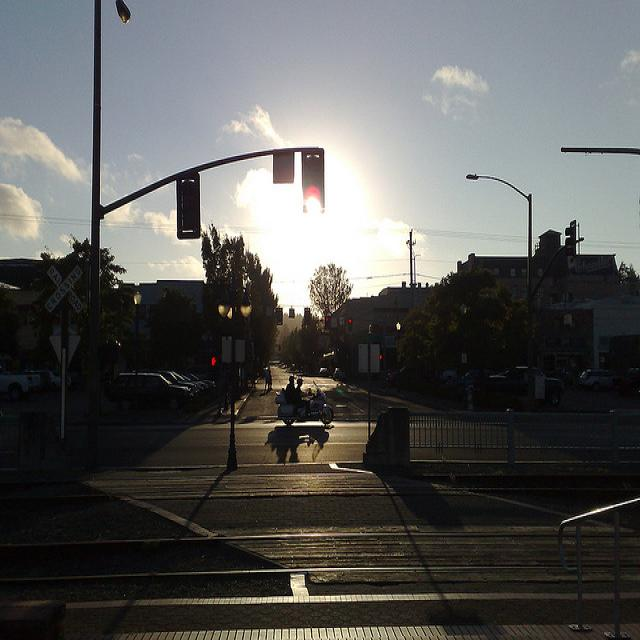motor: (275, 381, 335, 425)
